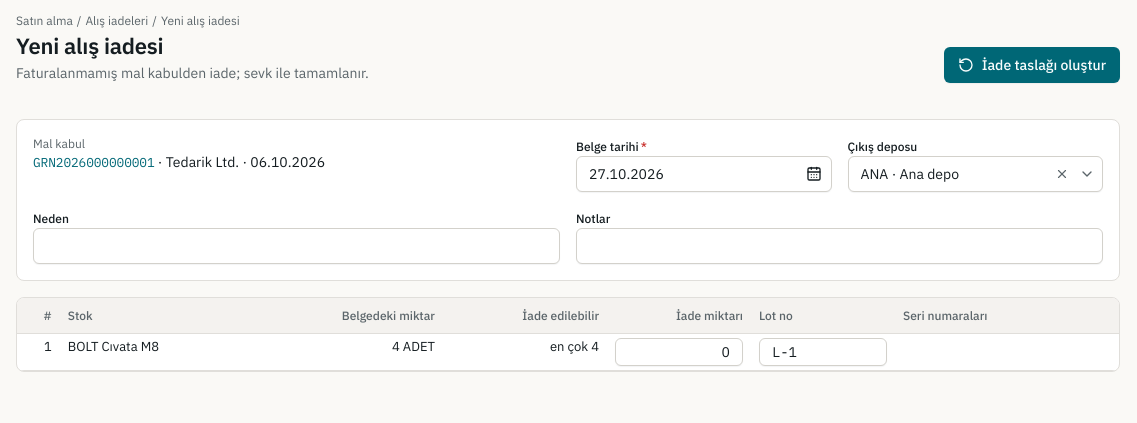
Scenario: create keys across remounts › shows receipt return bounds as upper bounds and refuses more
Expected: the heading "Yeni alış iadesi" is shown, [16, 31, 163, 61]
Expected: the cell with test id "returnable-1" reads "en çok 4", [550, 338, 599, 355]
Step 1. Type "9" into the field named "1. satır iade miktarı" → x=679, y=352, box [615, 338, 743, 366]
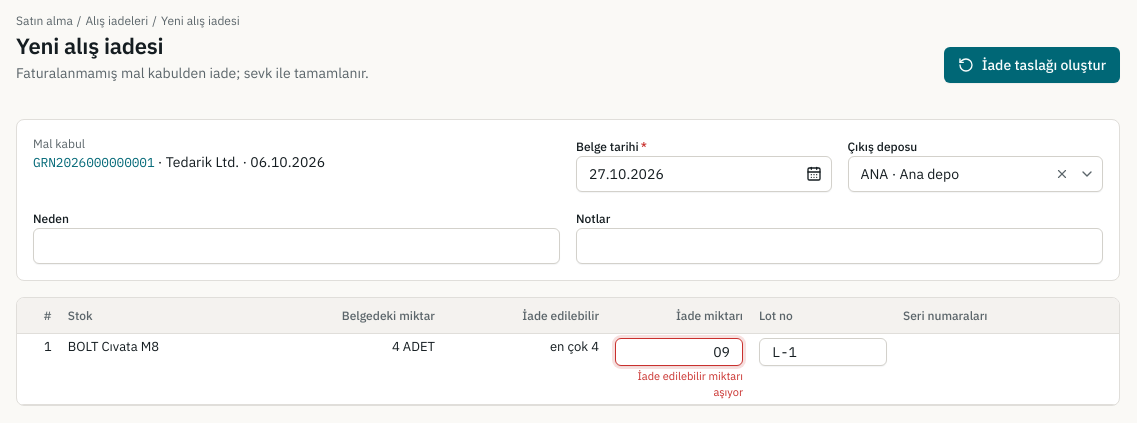
Expected: the text "İade edilebilir miktarı aşıyor" is shown, [637, 369, 743, 399]
